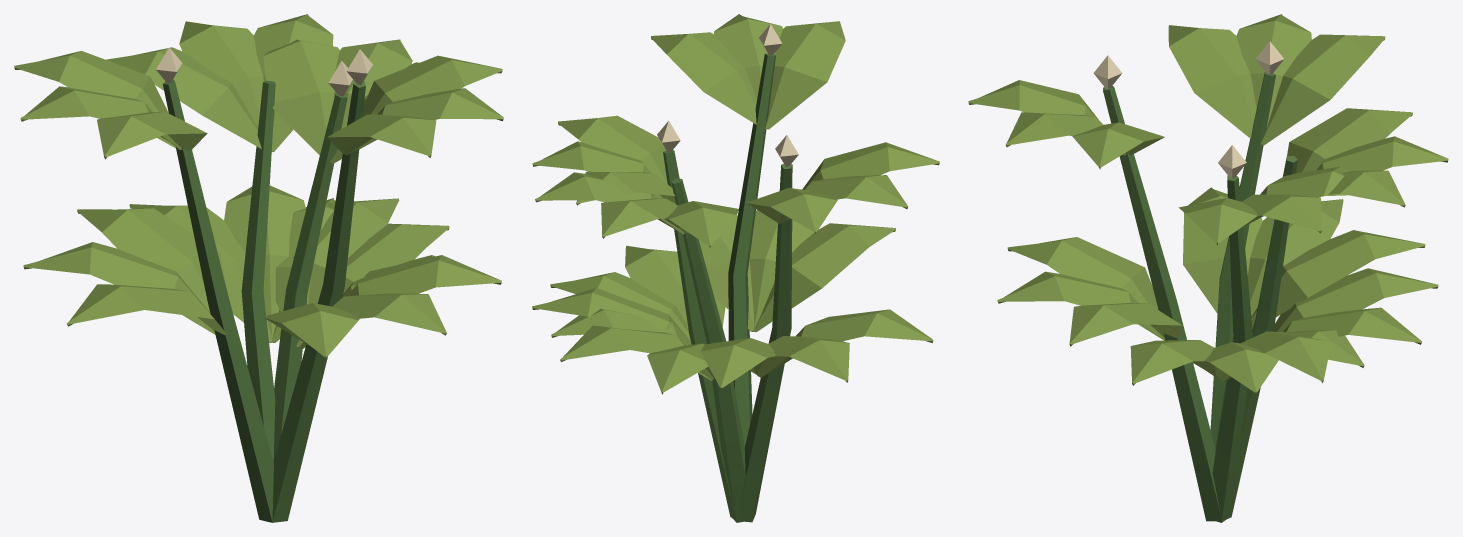
The model's file is crop_potato_growing.glb.
3 views of the same model, side by side, from view 1: azimuth 30°, elevation 25°; view 2: azimuth 150°, elevation 25°; view 3: azimuth 270°, elevation 25° (orthographic). The views are drawn at different scales.
Visible parts, largest first — view 1: potato_growing_leaf_00_000, potato_growing_stem_00, potato_bud_00; view 2: potato_growing_leaf_00_000, potato_growing_stem_00, potato_bud_00; view 3: potato_growing_leaf_00_000, potato_growing_stem_00, potato_bud_00.
Boxes of the visible parts, x1=… form: potato_growing_leaf_00_000: x1=14, y1=14, x2=503, y2=358; potato_growing_stem_00: x1=163, y1=79, x2=365, y2=522; potato_bud_00: x1=156, y1=47, x2=372, y2=96; potato_growing_leaf_00_000: x1=532, y1=14, x2=939, y2=394; potato_growing_stem_00: x1=663, y1=53, x2=792, y2=522; potato_bud_00: x1=657, y1=24, x2=798, y2=166; potato_growing_leaf_00_000: x1=968, y1=14, x2=1448, y2=394; potato_growing_stem_00: x1=1103, y1=72, x2=1297, y2=522; potato_bud_00: x1=1093, y1=41, x2=1283, y2=178.
Bounding box in the file's own units: 0.5106 × 0.5777 × 0.5293.
